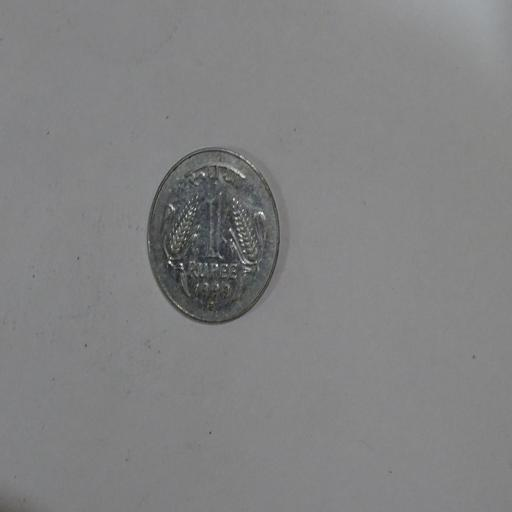rupee1: (144, 147, 282, 326)
